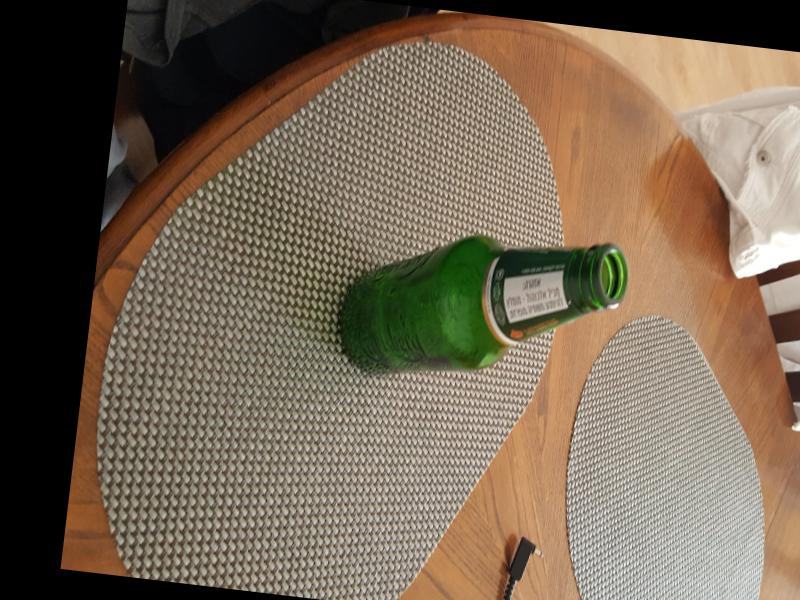Beer: (333, 224, 626, 403)
